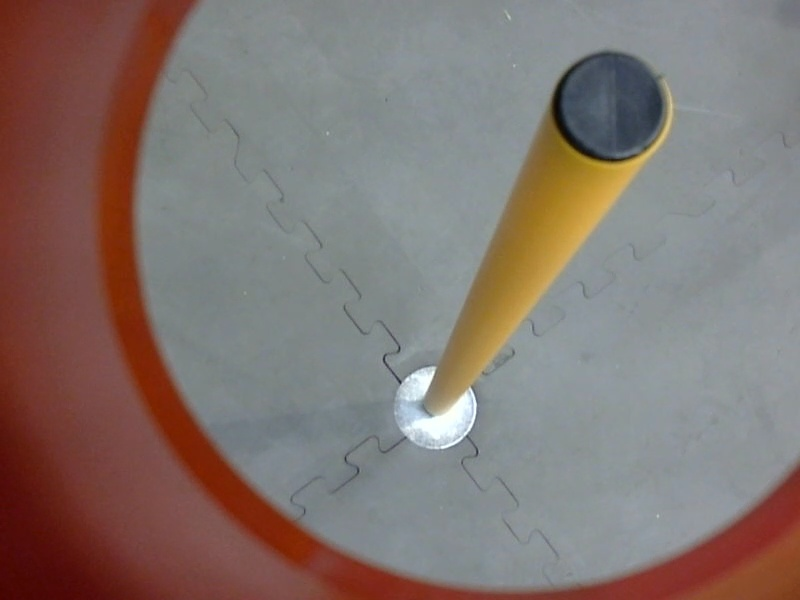tip: (547, 44, 682, 173)
